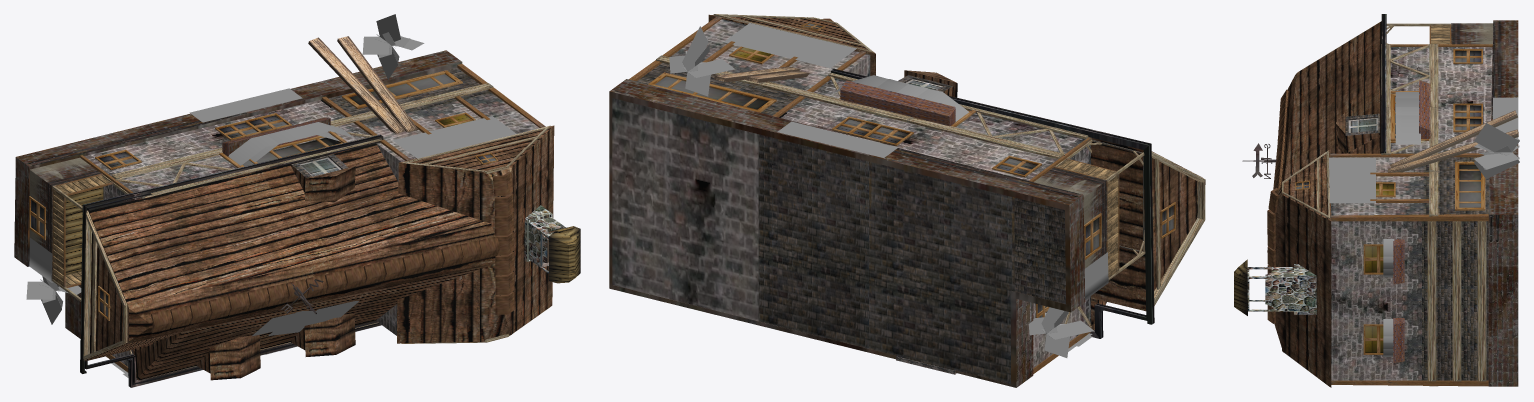
The model's file is house.glb.
The picture shows the model from 3 angles, left to right: view 1: azimuth 30°, elevation 25°; view 2: azimuth 150°, elevation 25°; view 3: azimuth 270°, elevation 25°; orthographic projection. The views are drawn at different scales.
Parts seen in each view (by area): view 1: Gost House, plants; view 2: Gost House, plants; view 3: Gost House, plants.
Boxes of the visible parts, x1,y1,x2,y2 form: Gost House: [14, 36, 580, 387]; plants: [26, 14, 516, 377]; Gost House: [609, 14, 1205, 387]; plants: [669, 23, 1108, 357]; Gost House: [1234, 14, 1518, 387]; plants: [1329, 92, 1519, 356].
Bounding box in the file's own units: 584 × 325 × 343.
Materials: 2 (1 with a texture image).
